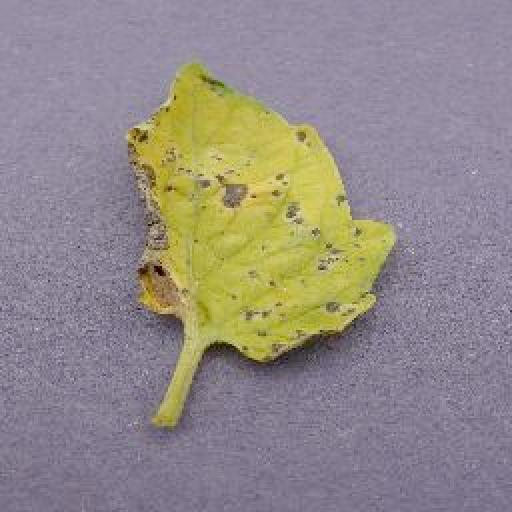disease_tomato: (124, 54, 402, 364)
